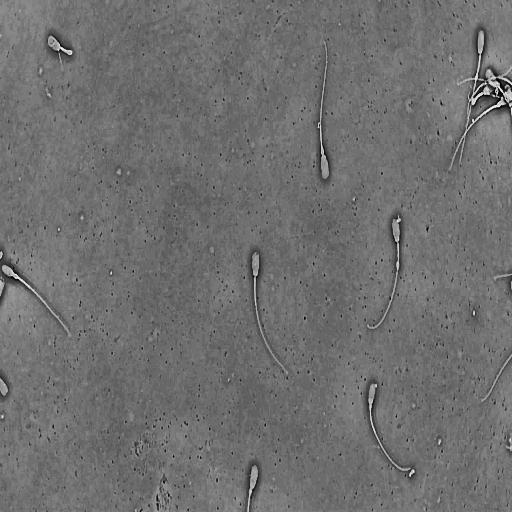distal-droplet: (396, 261, 399, 268), (475, 75, 478, 80)
folded-tail: (48, 36, 72, 64), (49, 38, 56, 44)
loose-tail: (477, 346, 512, 408)
normal: (1, 264, 72, 339), (251, 250, 290, 377), (367, 382, 414, 473), (367, 215, 401, 331), (459, 28, 485, 165), (319, 38, 329, 182), (47, 35, 73, 57)
proximal-droplet: (13, 273, 18, 279), (321, 147, 324, 155), (369, 403, 372, 408)
